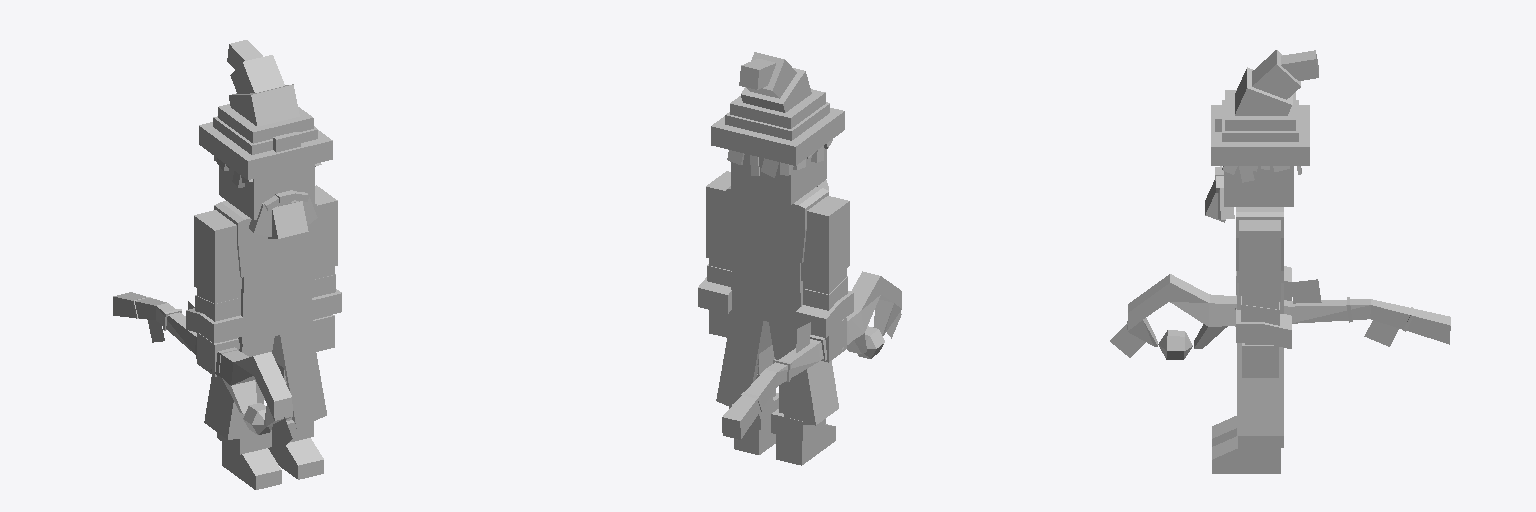
File: Wizard.obj
3 renders of one model, left to right at view 1: azimuth 30°, elevation 25°; view 2: azimuth 150°, elevation 25°; view 3: azimuth 270°, elevation 25°, orthographic.
Visible parts, largest first — view 1: cuboid, Lower_Torso, Left_Upper_Arm, Upper_Torso, Right_Shoe, Left_Shoe, Right_Upper_Arm, Face, Head, Left_Hand, Left_Lower_Arm, Right_Hand (+2 smaller); view 2: cuboid, Upper_Torso, Lower_Torso, Left_Upper_Arm, Head, Right_Shoe, Right_Upper_Arm, Left_Shoe, Left_Lower_Arm, Left_Hand, plane; view 3: cuboid, Right_Upper_Arm, Left_Shoe, Head, plane, Right_Hand, Upper_Torso, sphere, Right_Lower_Arm.
Boxes of the visible parts, x1=… form: cuboid: x1=113, y1=40, x2=341, y2=439; Lower_Torso: x1=238, y1=261, x2=312, y2=343; Left_Upper_Arm: x1=194, y1=210, x2=241, y2=294; Upper_Torso: x1=214, y1=201, x2=316, y2=277; Right_Shoe: x1=217, y1=430, x2=281, y2=489; Left_Shoe: x1=268, y1=420, x2=323, y2=479; Right_Upper_Arm: x1=312, y1=185, x2=337, y2=271; Face: x1=254, y1=164, x2=314, y2=219; Head: x1=219, y1=166, x2=253, y2=219; Left_Hand: x1=197, y1=333, x2=239, y2=376; Left_Lower_Arm: x1=195, y1=295, x2=240, y2=342; Right_Hand: x1=312, y1=315, x2=334, y2=351; cuboid: x1=698, y1=52, x2=901, y2=439; Upper_Torso: x1=726, y1=186, x2=828, y2=262; Lower_Torso: x1=730, y1=246, x2=802, y2=327; Left_Upper_Arm: x1=801, y1=196, x2=849, y2=287; Head: x1=731, y1=148, x2=826, y2=204; Right_Shoe: x1=771, y1=409, x2=835, y2=465; Right_Upper_Arm: x1=706, y1=171, x2=731, y2=263; Left_Shoe: x1=729, y1=393, x2=778, y2=454; Left_Lower_Arm: x1=803, y1=276, x2=847, y2=310; Left_Hand: x1=821, y1=317, x2=846, y2=362; plane: x1=759, y1=312, x2=901, y2=421; cuboid: x1=1127, y1=50, x2=1450, y2=435; Right_Upper_Arm: x1=1239, y1=220, x2=1280, y2=301; Left_Shoe: x1=1212, y1=436, x2=1283, y2=473; Head: x1=1224, y1=166, x2=1293, y2=206; plane: x1=1110, y1=279, x2=1398, y2=357; Right_Hand: x1=1242, y1=343, x2=1278, y2=377; Upper_Torso: x1=1236, y1=207, x2=1283, y2=270; sphere: x1=1158, y1=330, x2=1192, y2=359; Right_Lower_Arm: x1=1241, y1=296, x2=1279, y2=344.
Bounding box in the file's own units: 1.32 × 3.96 × 3.04.